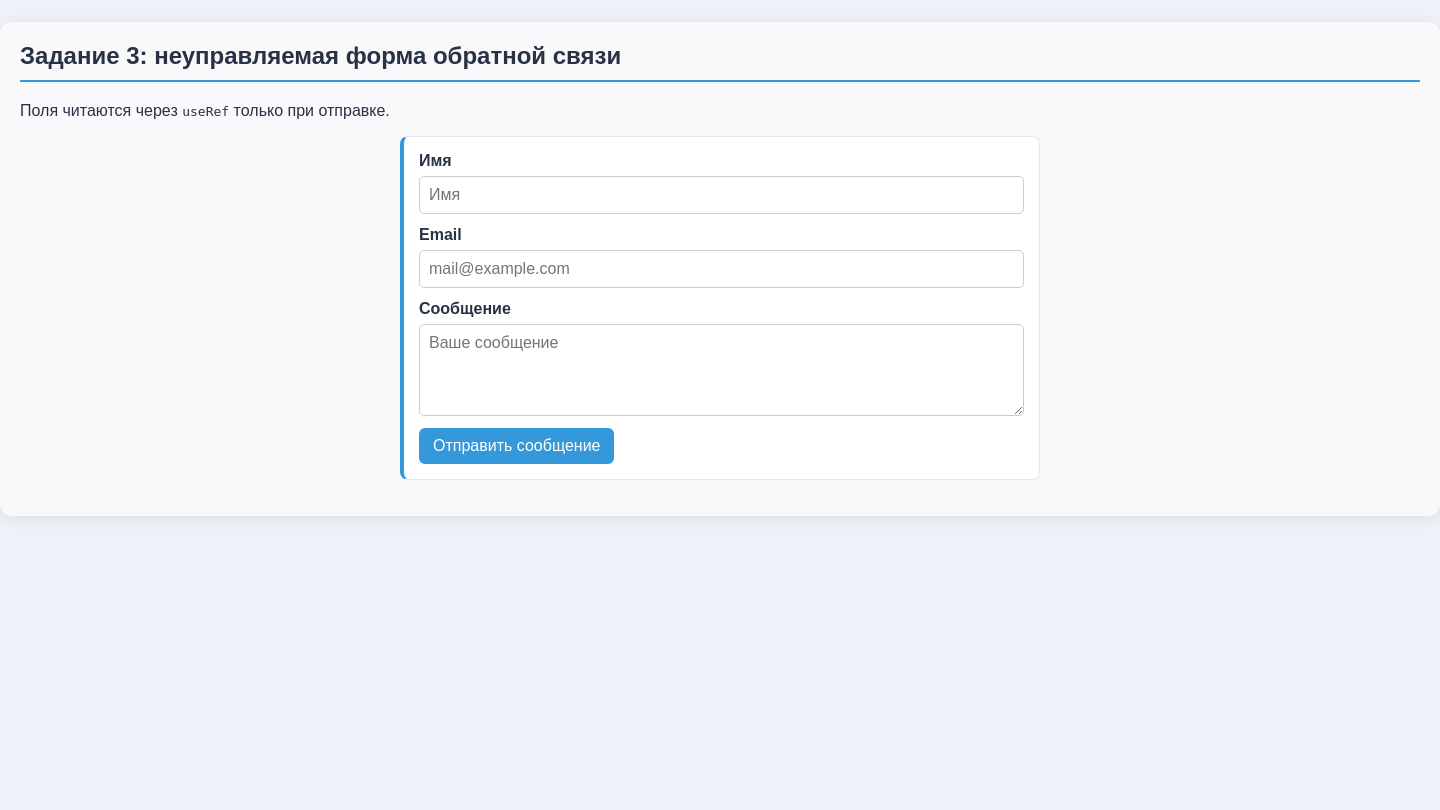
Test case: неуправляемые поля используют DOM и reset после отправки
Type "Иван" into the field labelled "Имя" at (722, 195), box [419, 176, 1024, 214]
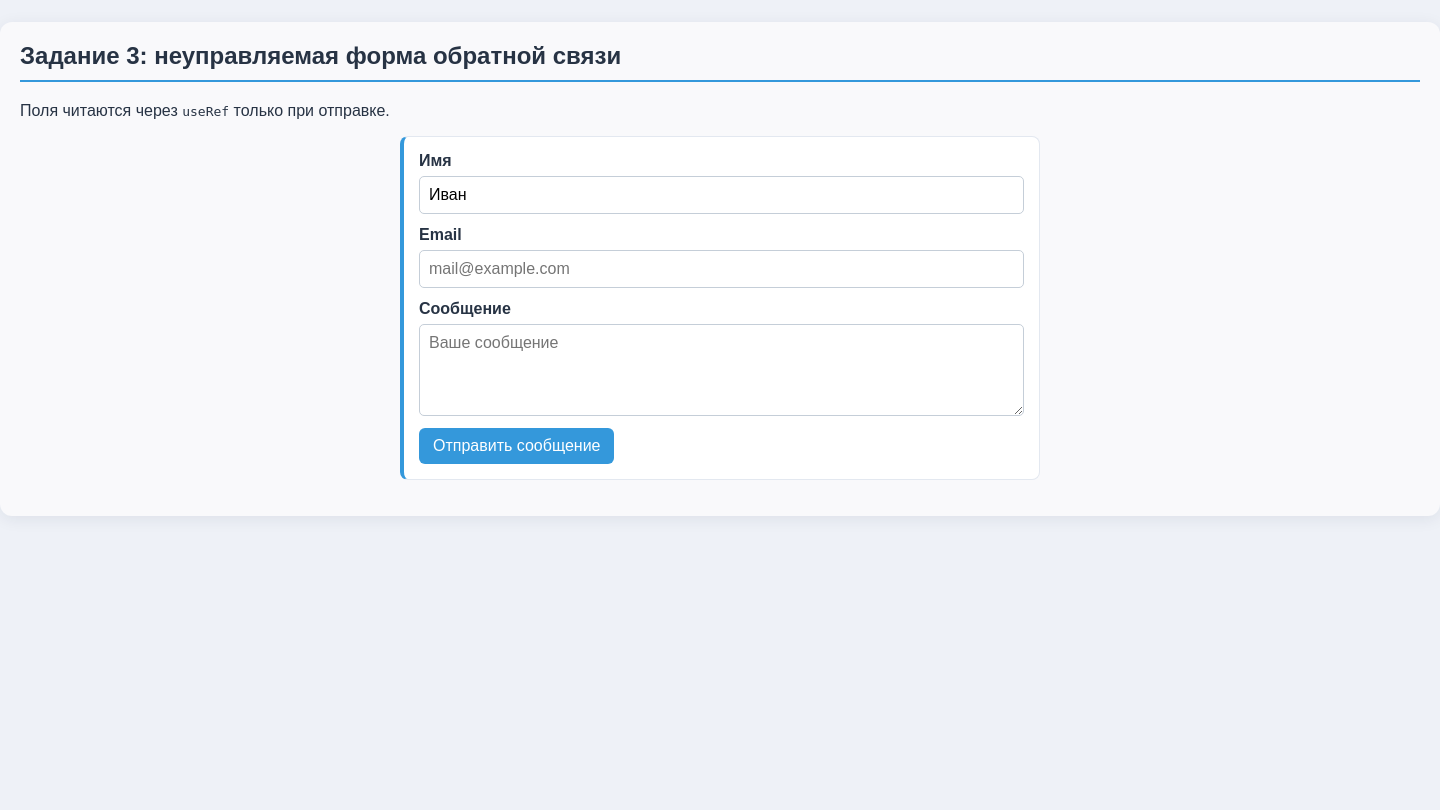
Type "ivan@example.com" into the field labelled "Email" at (722, 269), box [419, 250, 1024, 288]
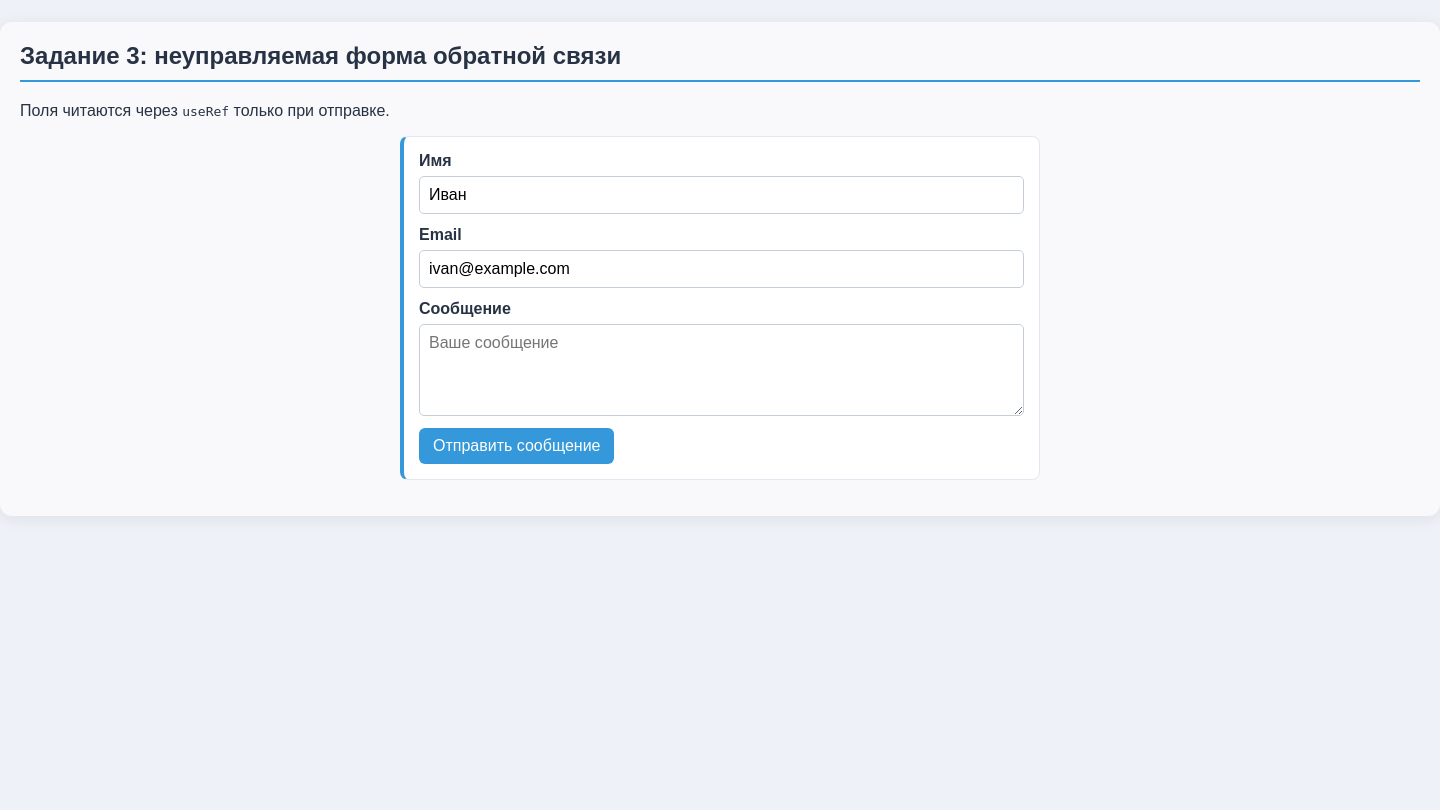
Type "Добрый день!" into the text box labelled "Сообщение" at (722, 370), box [419, 324, 1024, 416]
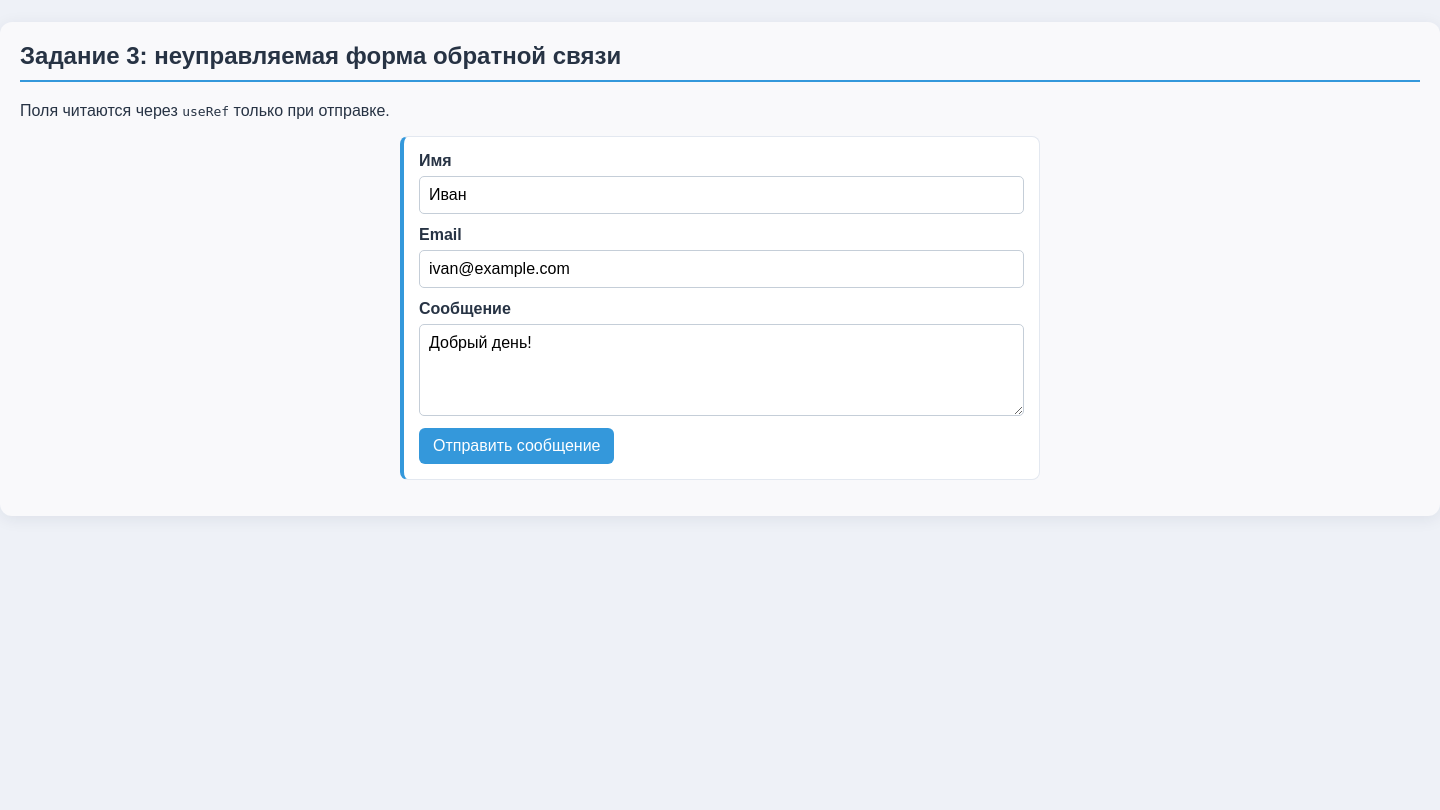
Click the button "Отправить сообщение" at (517, 446), box [419, 428, 614, 464]
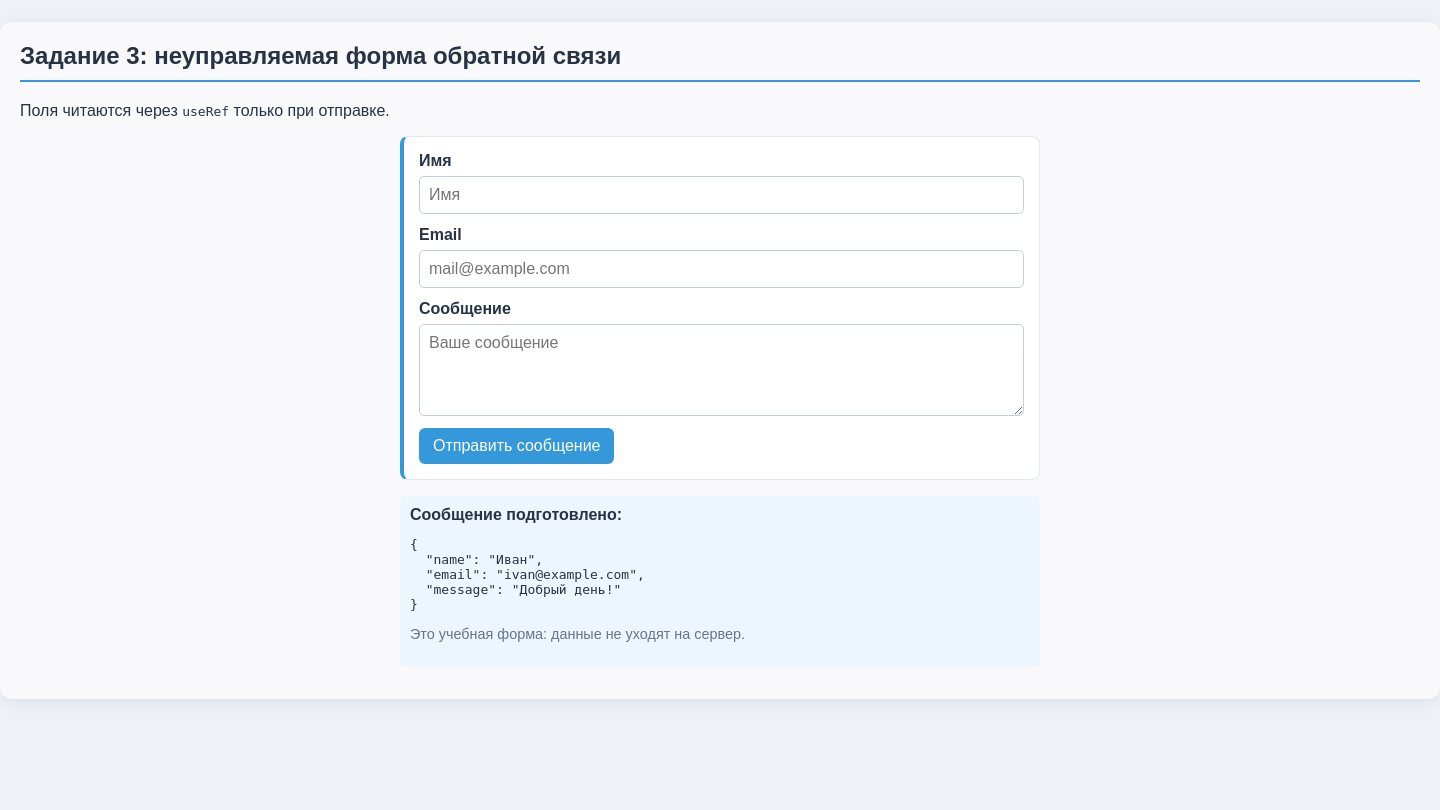
expect the text "Сообщение подготовлено:" is shown: met, box [410, 506, 622, 523]
expect the field labelled "Имя" is empty: met, box [419, 176, 1024, 214]
